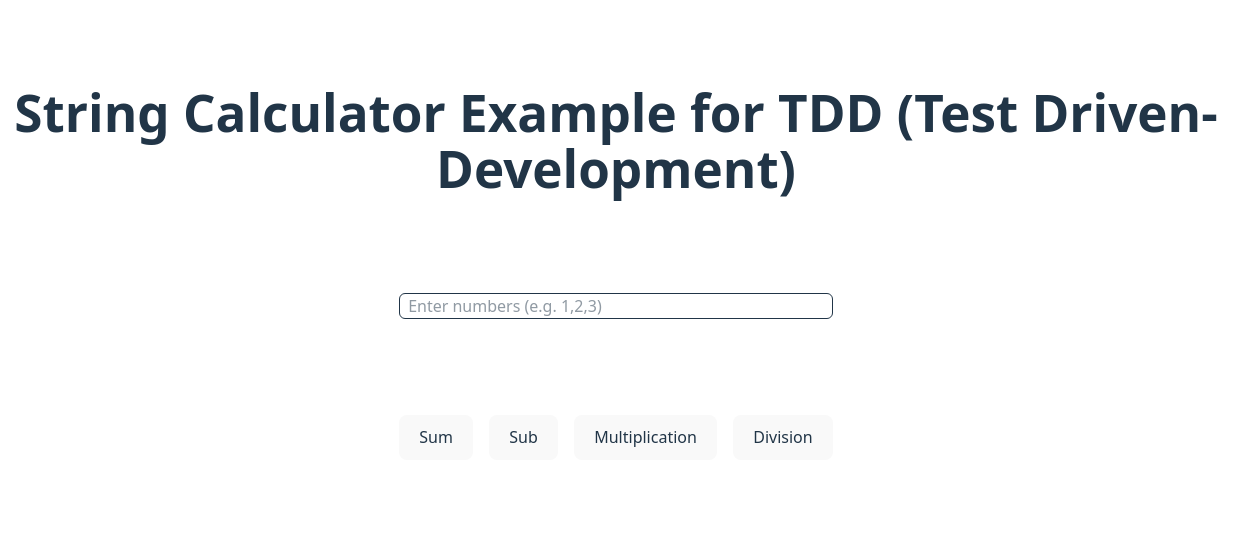
Test case: add numbers separated by comma.
Type "1,2,3" into the field at (616,306), box [399,293,833,319]
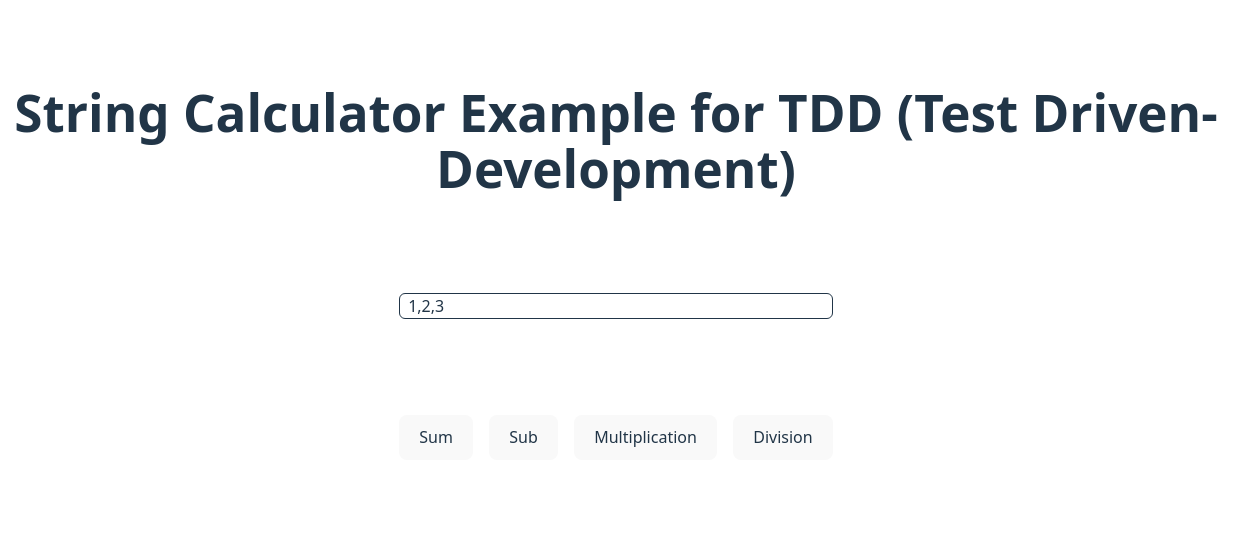
Click the button "Sum" at (436,437), box [399,415,473,460]
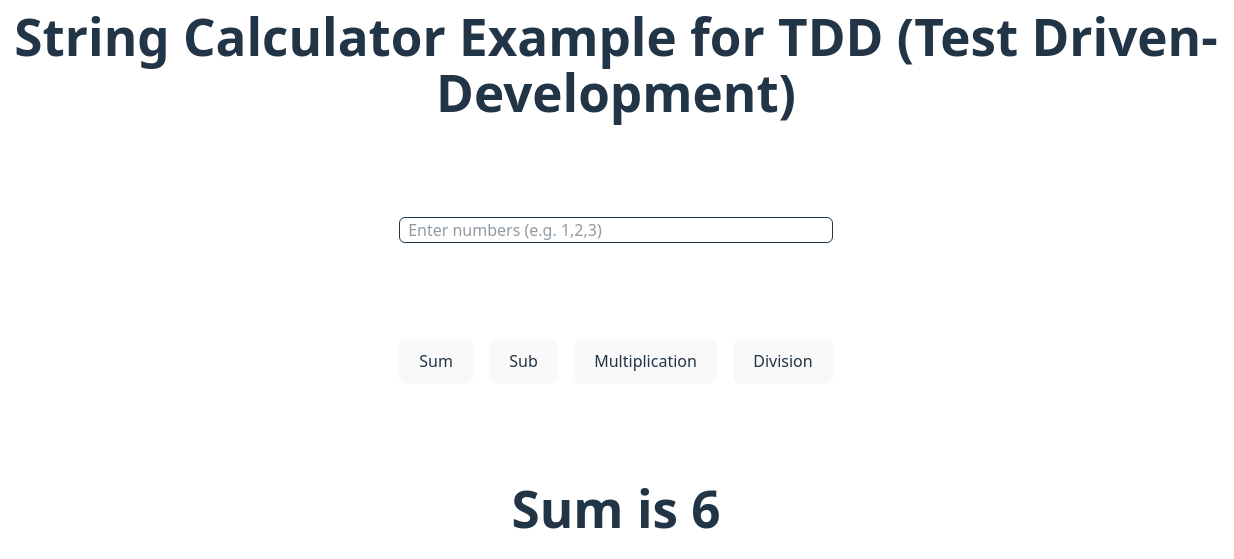
Expected: the heading "Sum is 6" is shown, [512,473,721,543]
